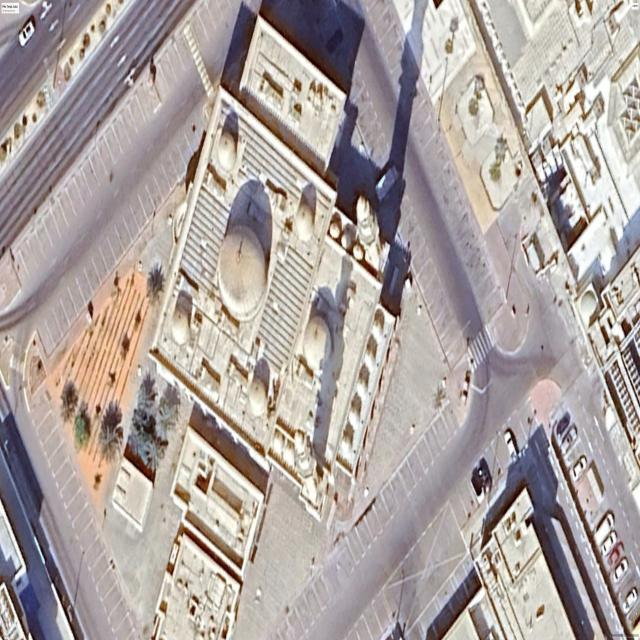mosque: (151, 16, 394, 519)
